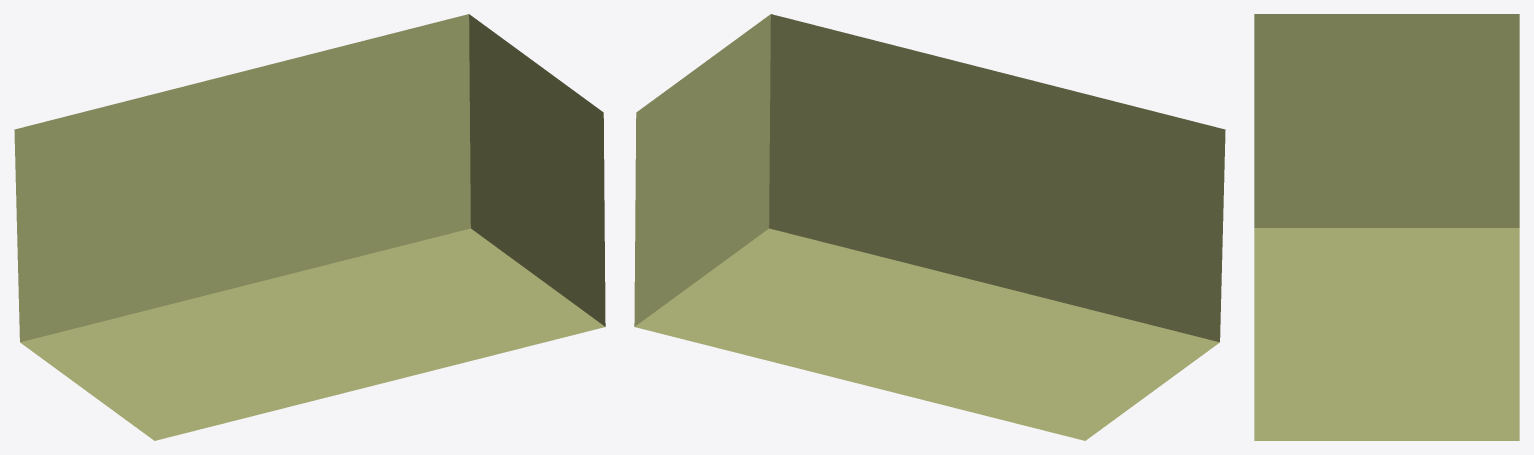
3 renders of one model, left to right at view 1: azimuth 30°, elevation 25°; view 2: azimuth 150°, elevation 25°; view 3: azimuth 270°, elevation 25°, orthographic.
Visible parts, largest first — view 1: 0_2_0_1_2_1_2_3_0_2; view 2: 0_2_0_1_2_1_2_3_0_2; view 3: 0_2_0_1_2_1_2_3_0_2.
Boxes of the visible parts, x1,y1,x2,y2 form: 0_2_0_1_2_1_2_3_0_2: (14, 14, 605, 440); 0_2_0_1_2_1_2_3_0_2: (634, 14, 1225, 440); 0_2_0_1_2_1_2_3_0_2: (1254, 14, 1519, 440).
Bounding box in the file's own units: 11.74 × 5.38 × 6.
